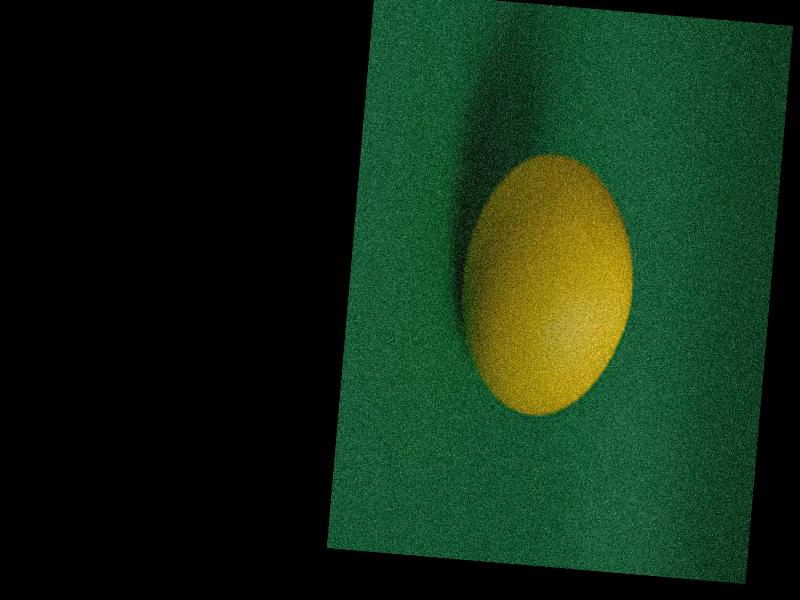Eggs: (450, 155, 644, 426)
